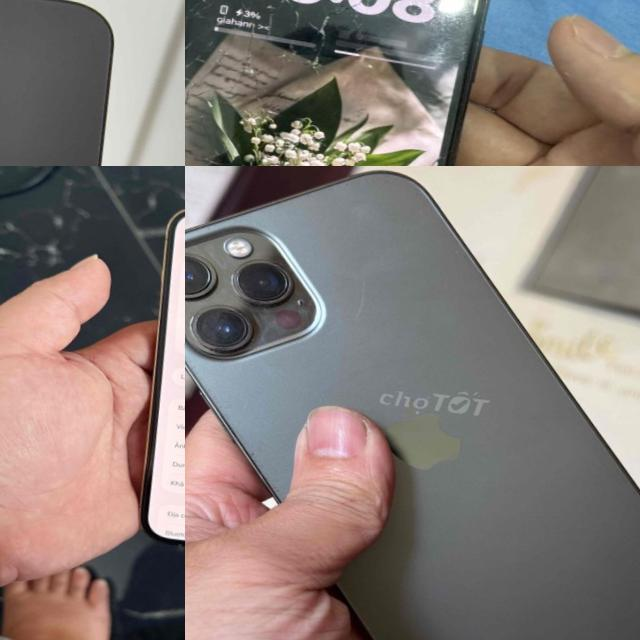gen_12_13: (185, 166, 640, 640), (185, 0, 506, 166), (120, 195, 185, 577)
gen_14: (0, 0, 139, 166)
